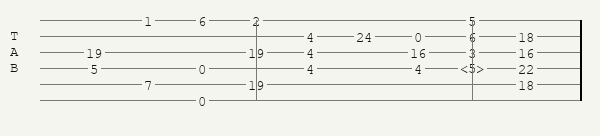0: (198, 94, 210, 107), (198, 62, 210, 75), (414, 30, 426, 43)
1: (144, 14, 156, 27)
16: (410, 46, 430, 59), (518, 46, 538, 59)
18: (518, 30, 538, 43), (518, 78, 538, 91)
19: (86, 46, 106, 59), (248, 78, 268, 91), (248, 46, 268, 59)
2: (252, 14, 264, 27)
22: (518, 62, 538, 75)
24: (356, 30, 376, 43)
3: (468, 46, 480, 59)
4: (306, 46, 318, 59), (306, 30, 318, 43), (306, 62, 318, 75), (414, 62, 426, 75)
5: (90, 62, 102, 75), (468, 14, 480, 27)
6: (198, 14, 210, 27), (468, 30, 480, 43)
7: (144, 78, 156, 91)
harmonic: (460, 61, 488, 75)
